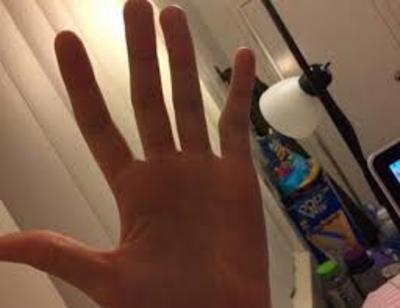mindinho: (214, 39, 267, 165)
